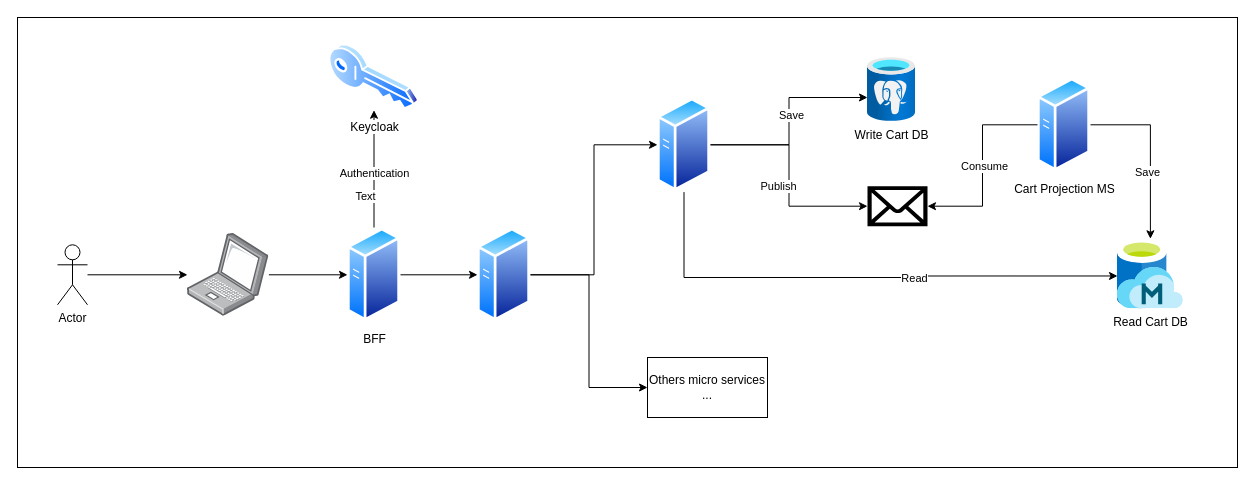
The diagram is 1255 pixels wide and 485 high, and some of its shapes have lost their labels. Here are the shapes that lost their labels. From the top down, the centre of each, then its label:
At [683,144]: "Cart MS".
At [897,206]: "cart-events".
At [227,274]: "Font-end".
At [503,274]: "API Gateway".
